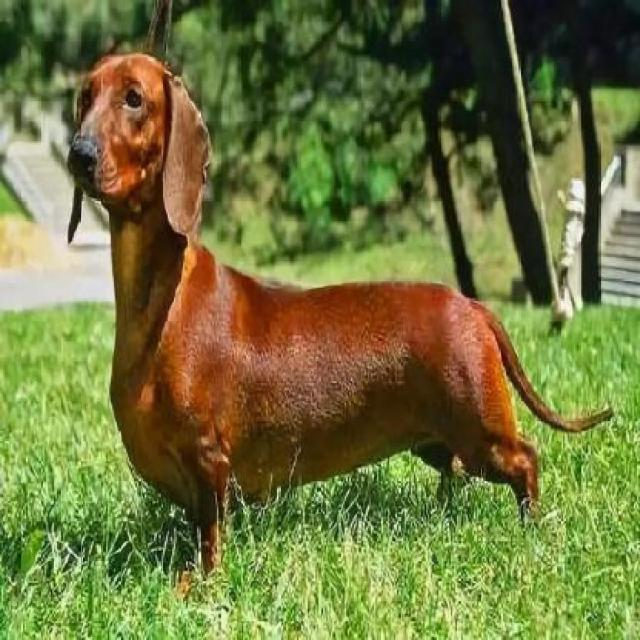Dog: (64, 46, 618, 582)
